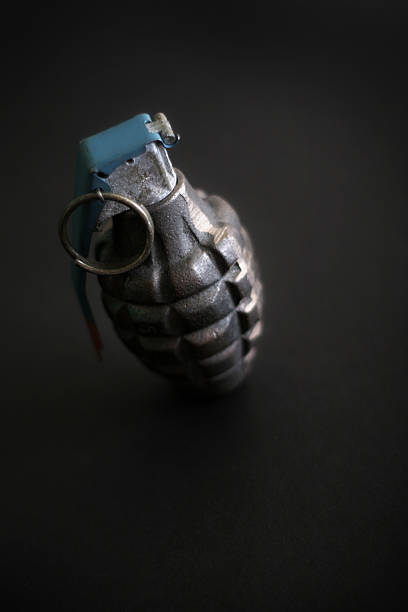e1: (58, 110, 266, 397)
